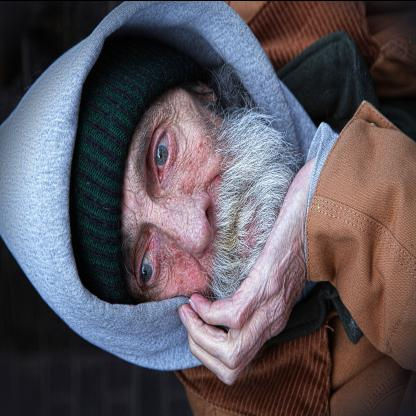Eye: (144, 119, 178, 178), (127, 236, 164, 290)
Nose: (153, 189, 219, 264)
